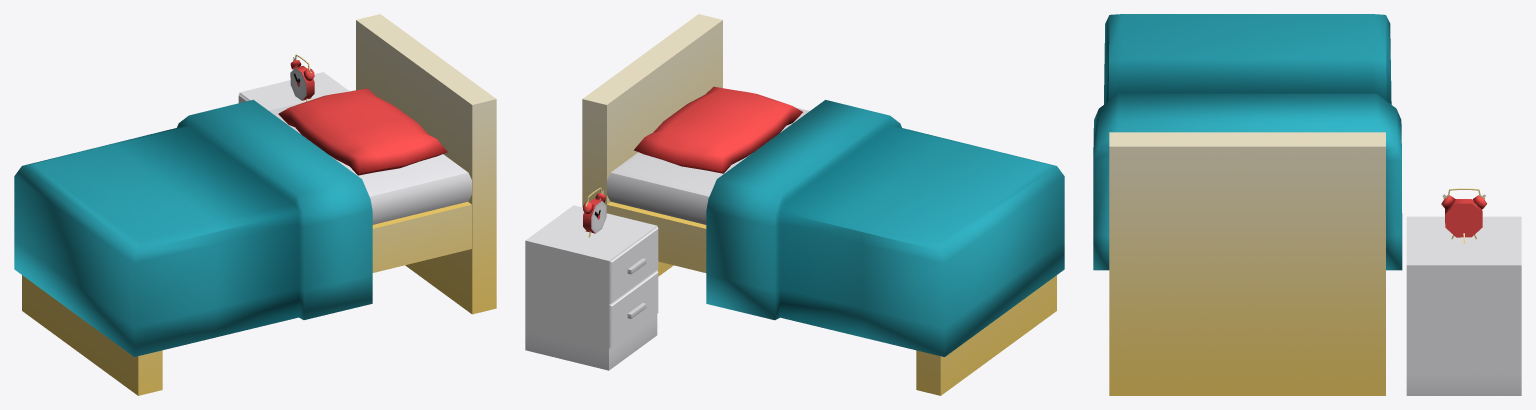
Rendered from bed_-_gradient_test.glb.
The picture shows the model from 3 angles, left to right: view 1: azimuth 30°, elevation 25°; view 2: azimuth 150°, elevation 25°; view 3: azimuth 270°, elevation 25°; orthographic projection. The views are drawn at different scales.
Parts seen in each view (by area): view 1: Object_2; view 2: Object_2; view 3: Object_2.
Part boxes in pixels (x1,y1,x2,y2): Object_2: [14, 14, 496, 395]; Object_2: [525, 14, 1064, 395]; Object_2: [1093, 14, 1521, 395].
Size of the model in its own units: 1.97 by 1.08 by 1.68.
1 material, 1 textured.
